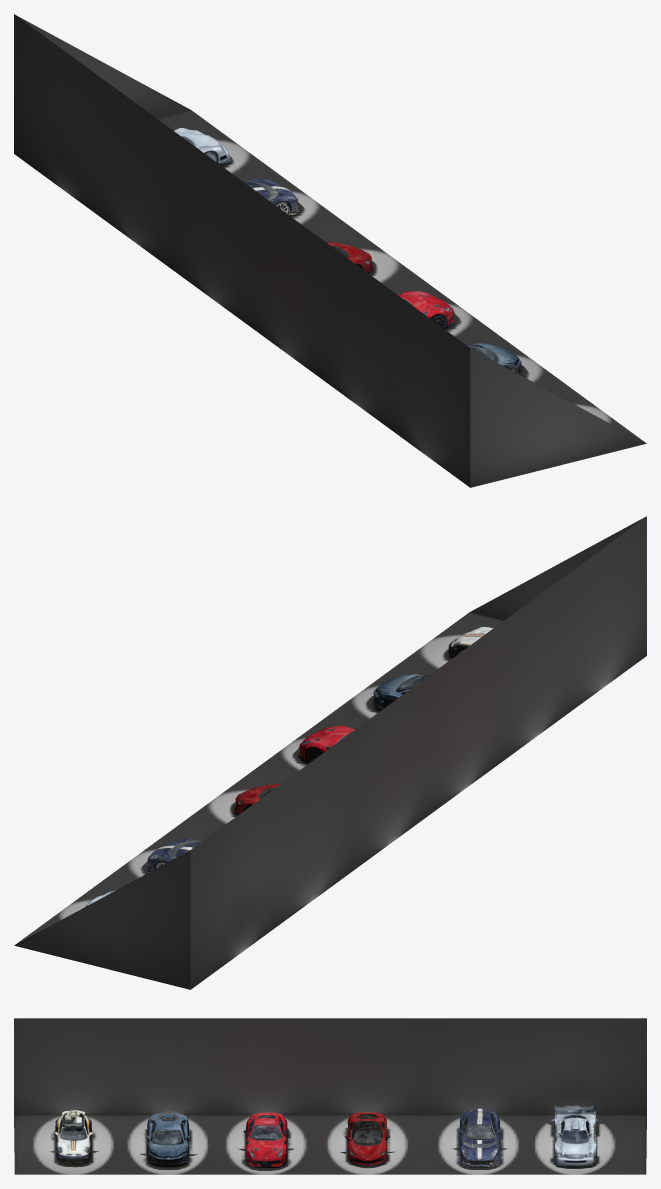
Rendered from garage.glb.
3 renders of one model, top to bottom at view 1: azimuth 30°, elevation 25°; view 2: azimuth 150°, elevation 25°; view 3: azimuth 270°, elevation 25°, orthographic. The views are drawn at different scales.
Visible parts, largest first — view 1: Cube, f12, 812.001, clk, Temerario; view 2: Cube, f12, Temerario, 812.001; view 3: Cube, clk, 812.001, Temerario, f12, SF90, Dakar.
Part boxes in pixels (box(x1,y1,x2,y2)): Cube: box(14, 14, 646, 487); f12: box(398, 291, 454, 329); 812.001: box(243, 178, 299, 214); clk: box(174, 128, 231, 165); Temerario: box(465, 343, 522, 375); Cube: box(14, 516, 646, 989); f12: box(298, 725, 355, 763); Temerario: box(372, 674, 429, 711); 812.001: box(147, 838, 201, 873); Cube: box(14, 1018, 646, 1174); clk: box(553, 1105, 596, 1167); 812.001: box(457, 1108, 501, 1167); Temerario: box(145, 1111, 191, 1167); f12: box(243, 1112, 289, 1167); SF90: box(344, 1112, 389, 1165); Dakar: box(55, 1110, 92, 1164).
Size of the model in its own units: 6.99 by 5.44 by 31.17.
Materials: 11 (7 with a texture image).
